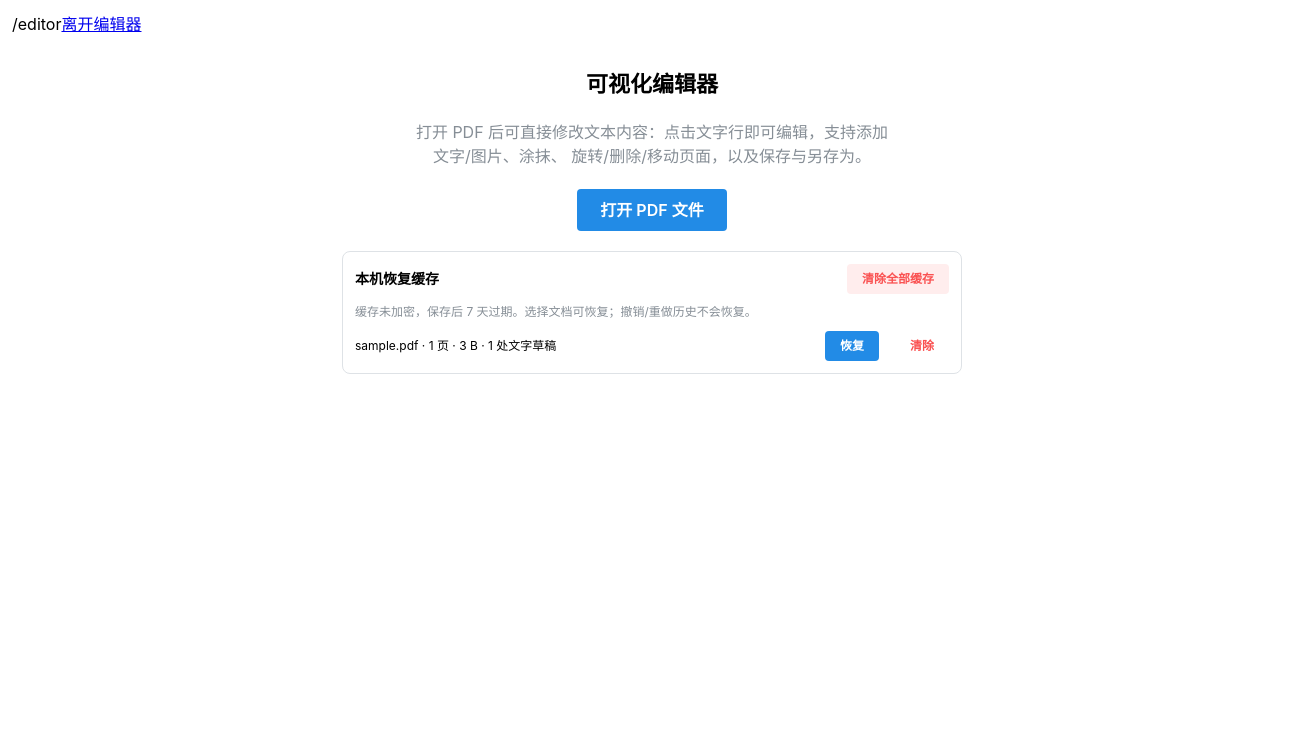
Test: editor dirty-draft protection › restores cached text by page, hash, and bounding box with empty server history
This screenshot has width=1292, height=732.
Click the button "恢复" at (852, 346), box [825,331,879,361]
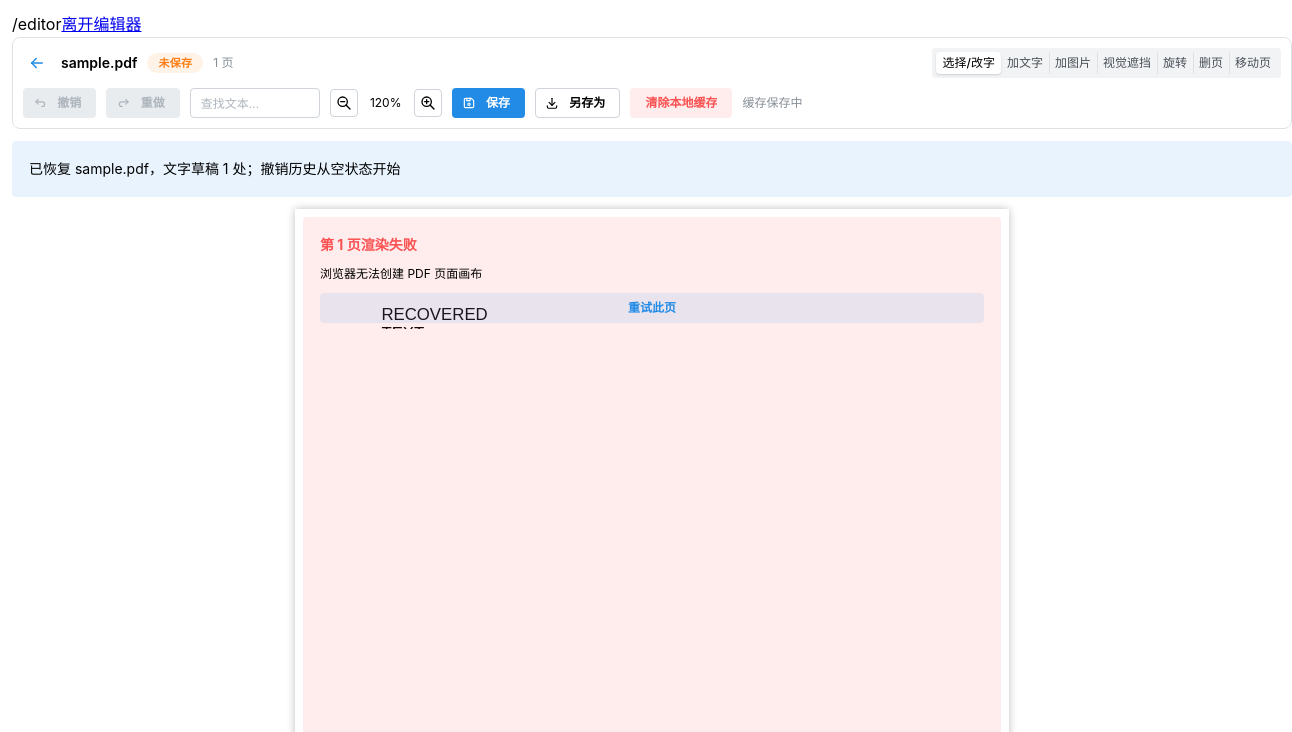
Now the text box holds "RECOVERED TEXT", box [381,305,511,329]
Now the text "已恢复 sample.pdf，文字草稿 1 处；撤销历史从空状态开始" is shown, box [29,160,400,177]
